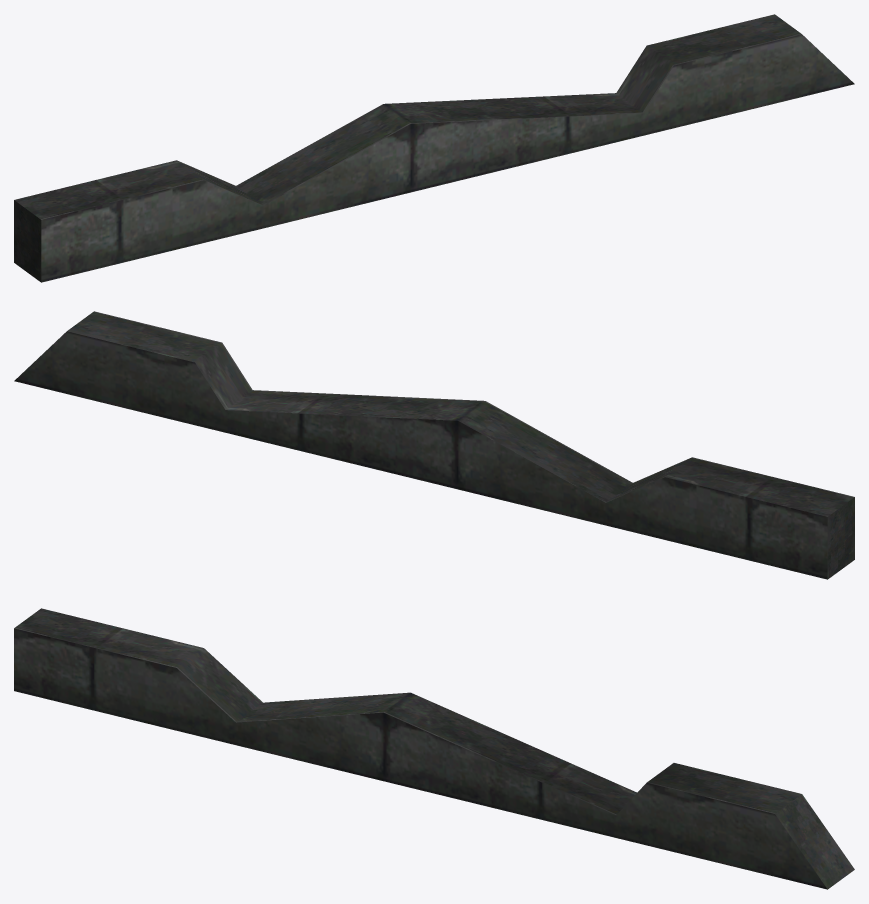
The model's file is environment_Building_qiaoliang_005_c.FBX.
3 renders of one model, top to bottom at view 1: azimuth 30°, elevation 25°; view 2: azimuth 150°, elevation 25°; view 3: azimuth 330°, elevation 25°, orthographic.
Parts seen in each view (by area): view 1: environment_Building_qiaoliang_005_c; view 2: environment_Building_qiaoliang_005_c; view 3: environment_Building_qiaoliang_005_c.
Boxes of the visible parts, box(x1,y1,x2,y2) form: environment_Building_qiaoliang_005_c: box(14, 14, 854, 282); environment_Building_qiaoliang_005_c: box(14, 311, 854, 579); environment_Building_qiaoliang_005_c: box(14, 608, 854, 889).
Bounding box in the file's own units: 258 × 20.79 × 14.97.
